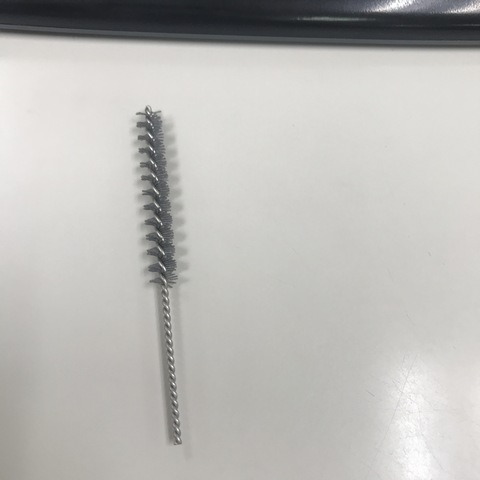Twist Brush-A: (134, 102, 191, 446)
